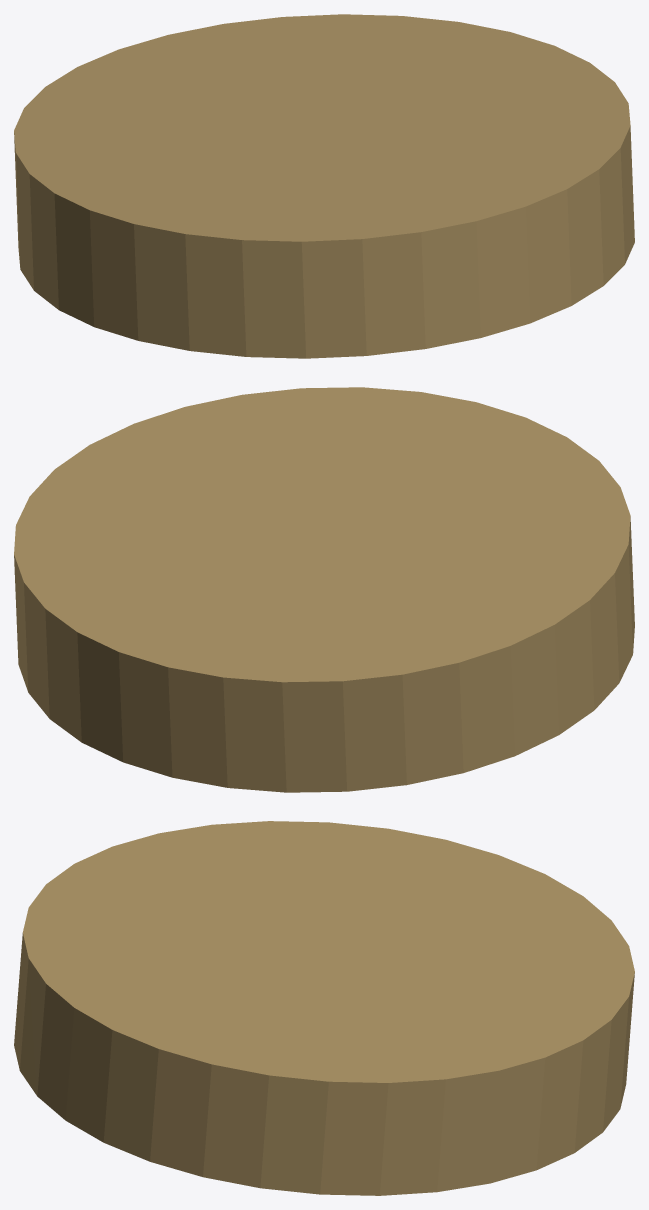
File: right_shoulder_y_link_visual_3.obj.full.glb
The picture shows the model from 3 angles, top to bottom: view 1: azimuth 30°, elevation 25°; view 2: azimuth 150°, elevation 25°; view 3: azimuth 270°, elevation 25°; orthographic projection.
Bounding box in the file's own units: 0.1667 × 0.0456 × 0.1687.
